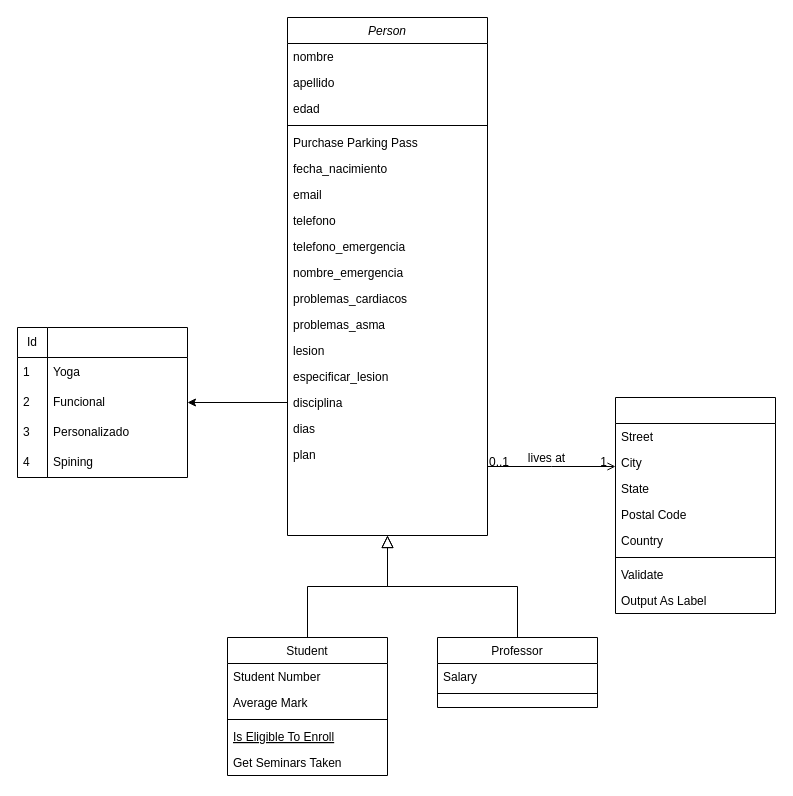
Some shapes in this 793 by 796 pixel diagram are drawn without their labels. Here are the shapes that lost their labels. From the top down, the box of each, then its label:
(46, 326, 188, 478): List
(614, 396, 776, 614): Address
